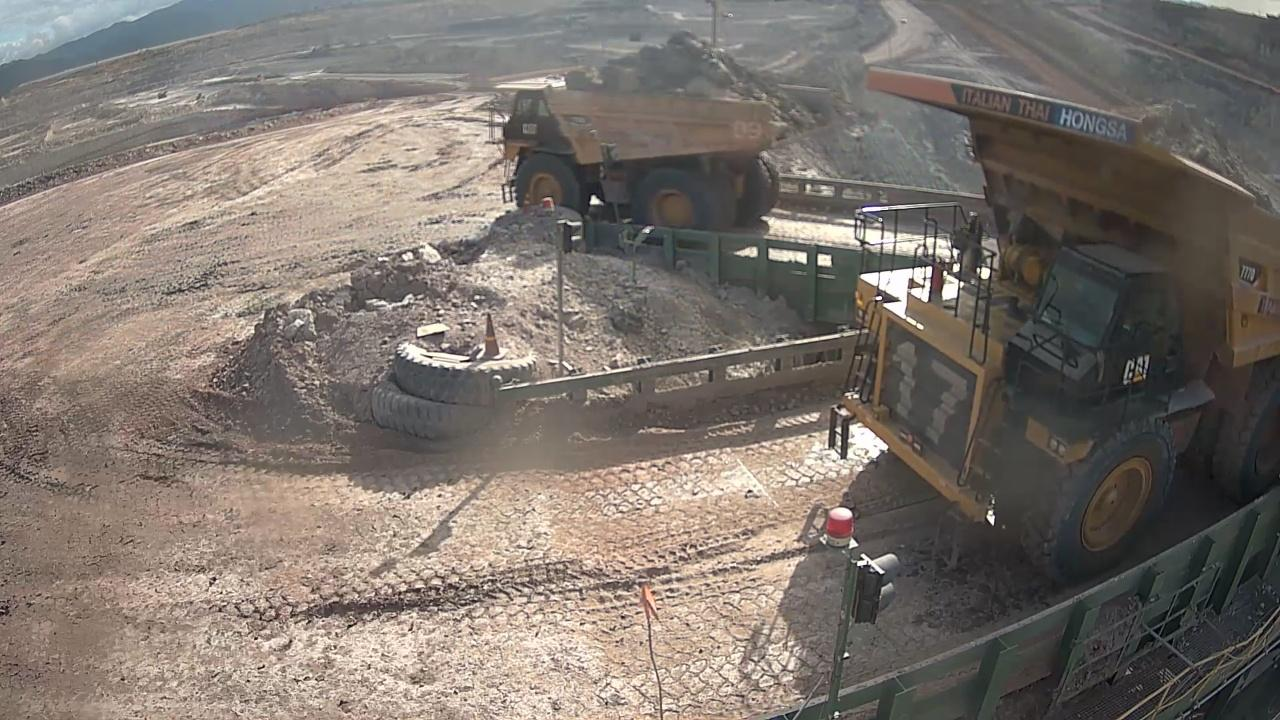dumping_soil: (821, 62, 1278, 587)
front_number: (881, 336, 972, 466)
full_load: (583, 29, 772, 113)
mining_truck: (469, 29, 846, 249)
tail_number: (732, 118, 768, 144)
